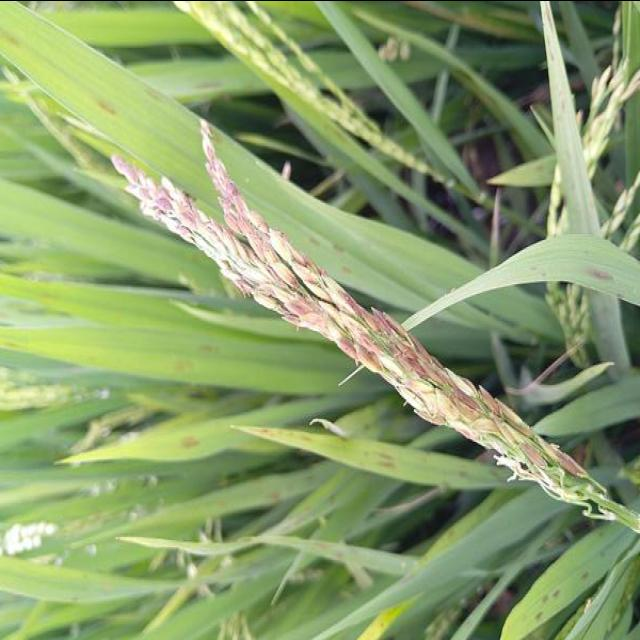Leaf Streak: (238, 425, 398, 472), (537, 590, 561, 622), (586, 267, 614, 280), (182, 436, 199, 447)
Panicle Blight: (112, 118, 589, 505)
